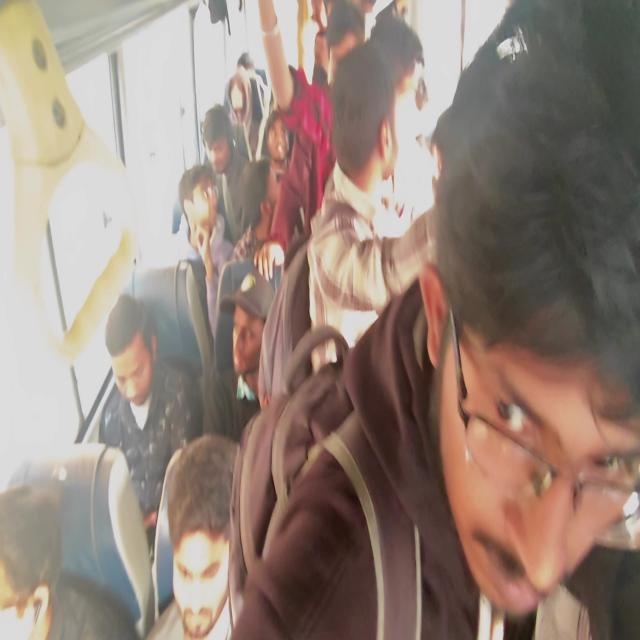person: (227, 1, 638, 638), (306, 32, 437, 370), (98, 292, 204, 548), (0, 478, 140, 639), (145, 432, 240, 639), (205, 267, 276, 440), (253, 112, 319, 285), (0, 479, 63, 639), (177, 163, 233, 339), (200, 103, 253, 243)
